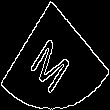M_NE: (30, 20, 80, 90)
